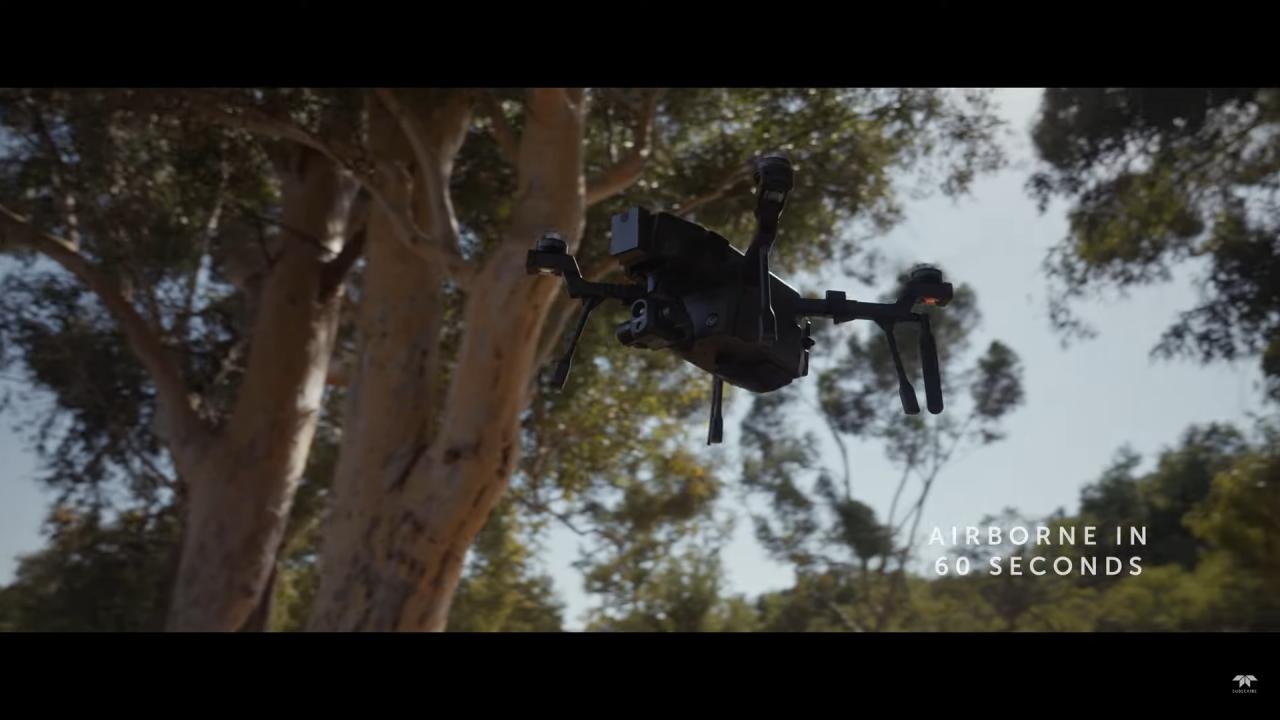Drone: (489, 132, 995, 462)
